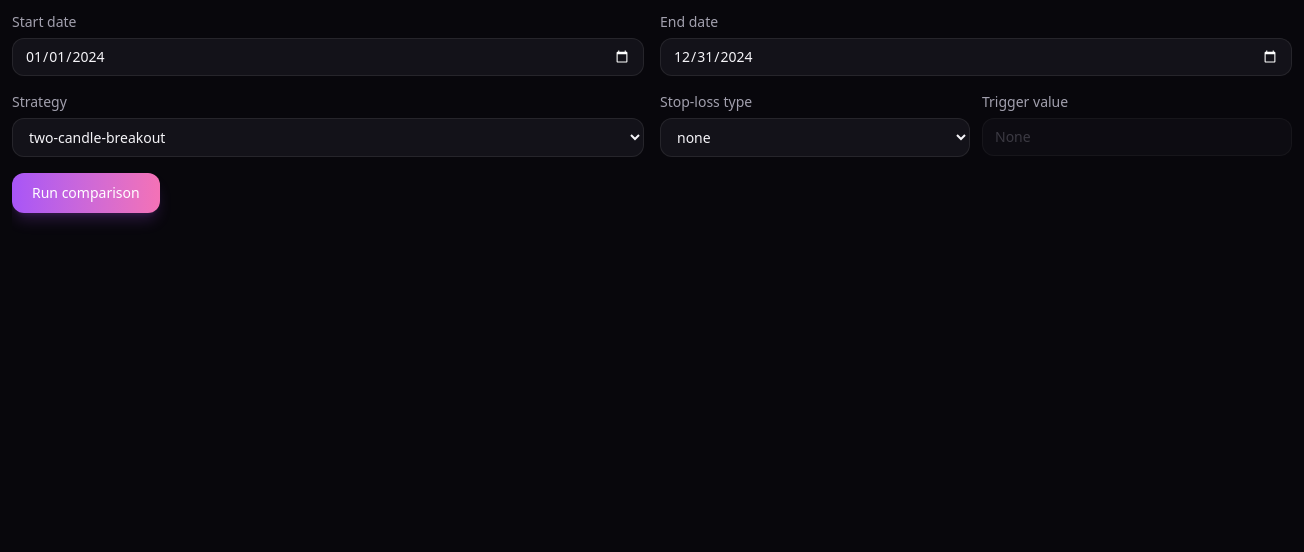
StrategyComparison › renders the baseline error and the challenger result independently when only the baseline fails
The width and height of the screenshot is (1304, 552).
Check: the dropdown labelled "Strategy" is enabled, box [12,118,644,157]
Check: the dropdown labelled "Stop-loss type" is enabled, box [660,118,970,157]
Click the button "Run comparison": click(86, 193) [12,173,160,213]
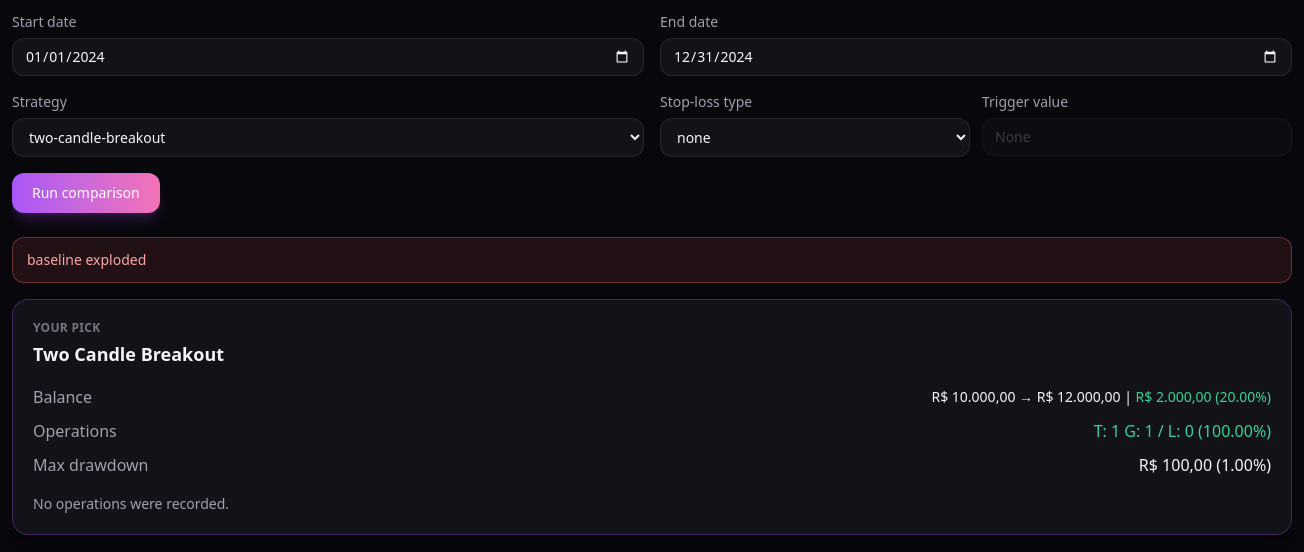
Check: the text "baseline exploded" is shown, box [12,237,1292,283]
Check: the heading "Two Candle Breakout" is shown, box [33,342,224,366]
